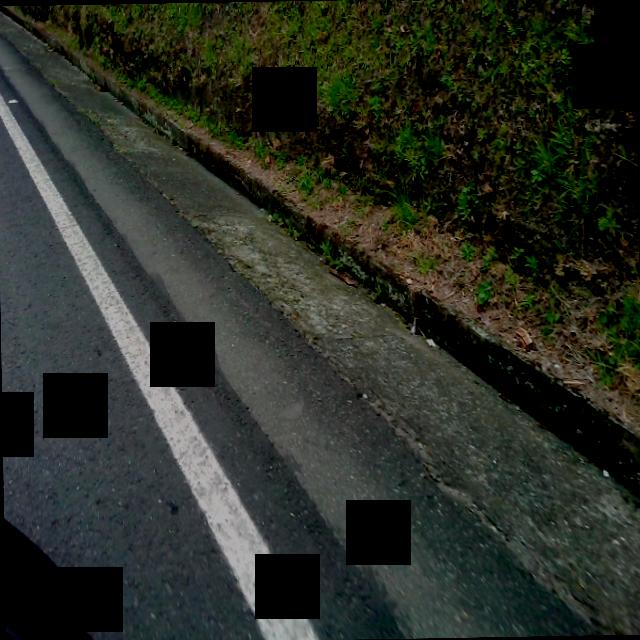DITCH: (0, 0, 640, 640), (0, 7, 640, 640), (0, 18, 640, 640)
